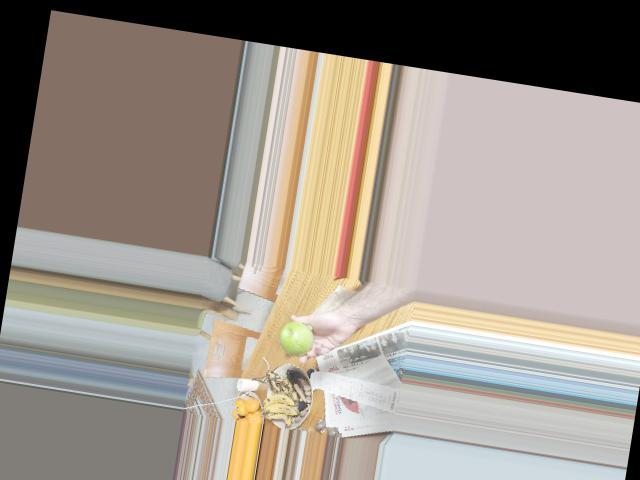apple: (273, 316, 321, 359)
